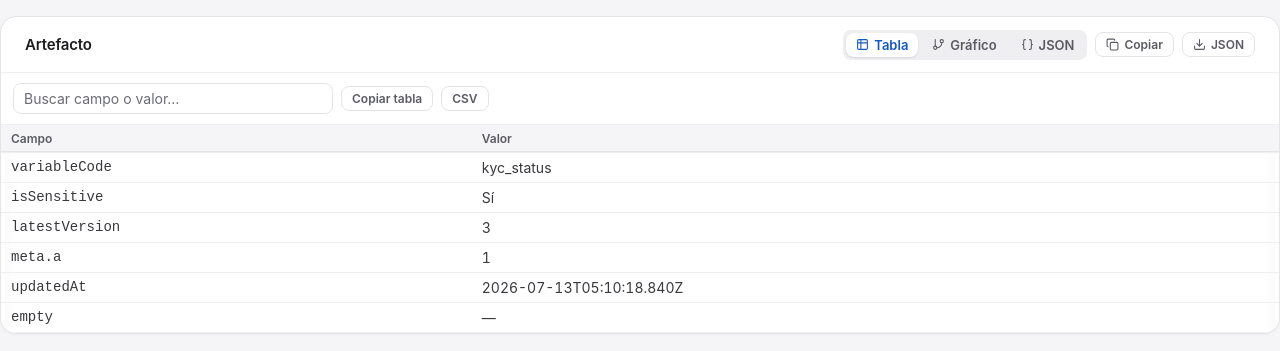
Test: DataInspector › permite cambiar a la vista JSON crudo de la misma respuesta
Click the tab "JSON": [1048, 44] box [1011,32,1084,56]
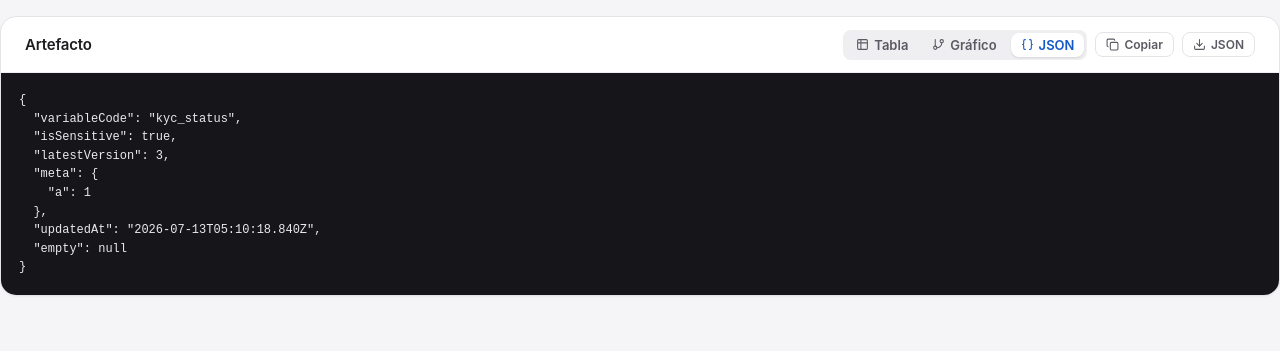
Check: the text "\"variableCode\": \"kyc_status\"" is shown, box [19,93,322,274]
